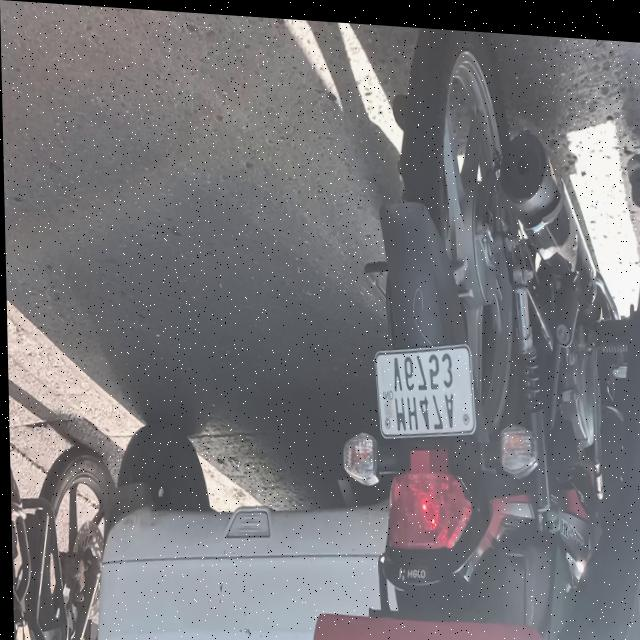plate: (371, 332, 475, 441)
